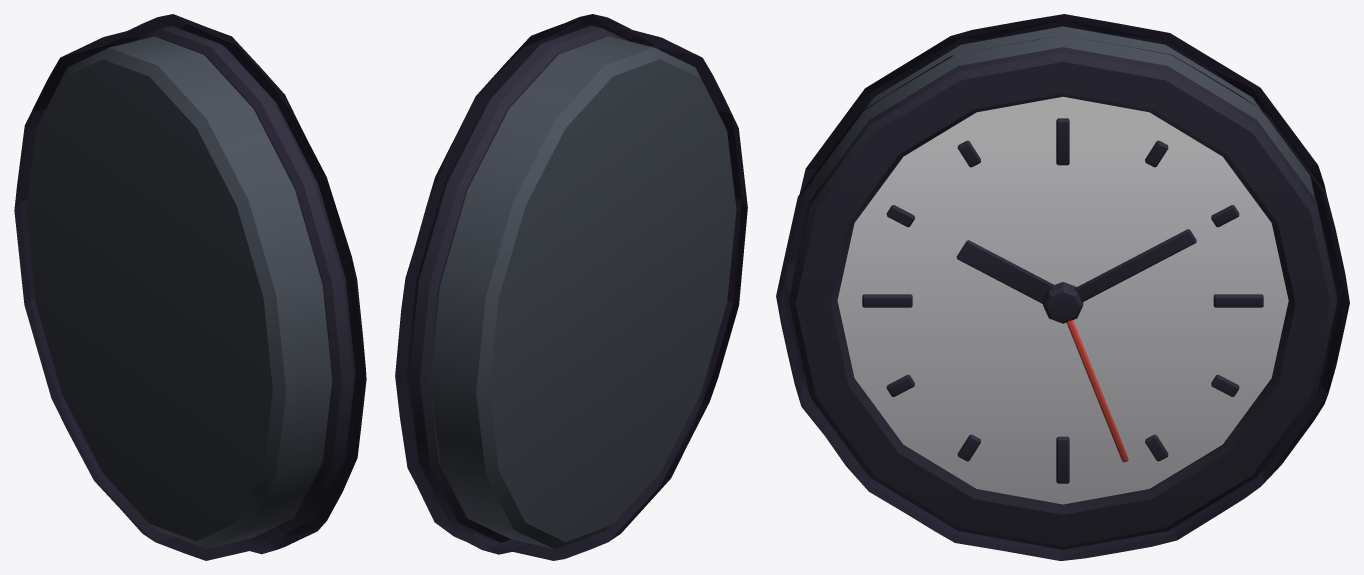
File: Wall_Clock_Outline.fbx
The picture shows the model from 3 angles, left to right: view 1: azimuth 30°, elevation 25°; view 2: azimuth 150°, elevation 25°; view 3: azimuth 270°, elevation 25°; orthographic projection. The views are drawn at different scales.
Visible parts, largest first — view 1: Wall_Clock; view 2: Wall_Clock; view 3: Wall_Clock.
Part boxes in pixels (x1,y1,x2,y2): Wall_Clock: (14,14,366,560); Wall_Clock: (395,14,747,560); Wall_Clock: (776,14,1349,560).
Bounding box in the file's own units: 0.3228 × 1.54 × 1.54.
Materials: 1 (1 with a texture image).
